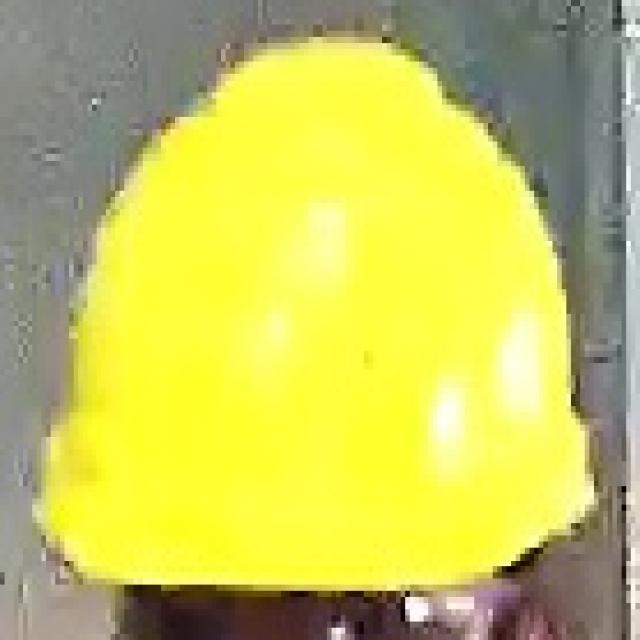yellow helmet: (33, 26, 603, 586)
